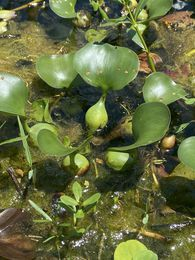water_hyacinth: (1, 41, 193, 179)
